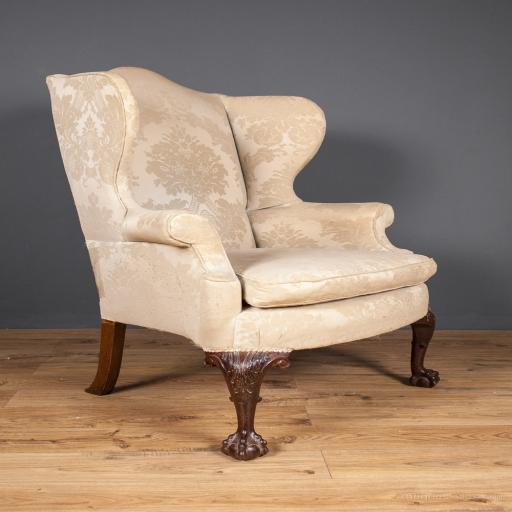chair: (45, 66, 441, 460)
